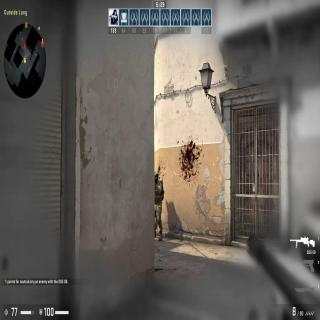CT-Body: (154, 169, 164, 241)
CT-Head: (154, 170, 160, 182)
